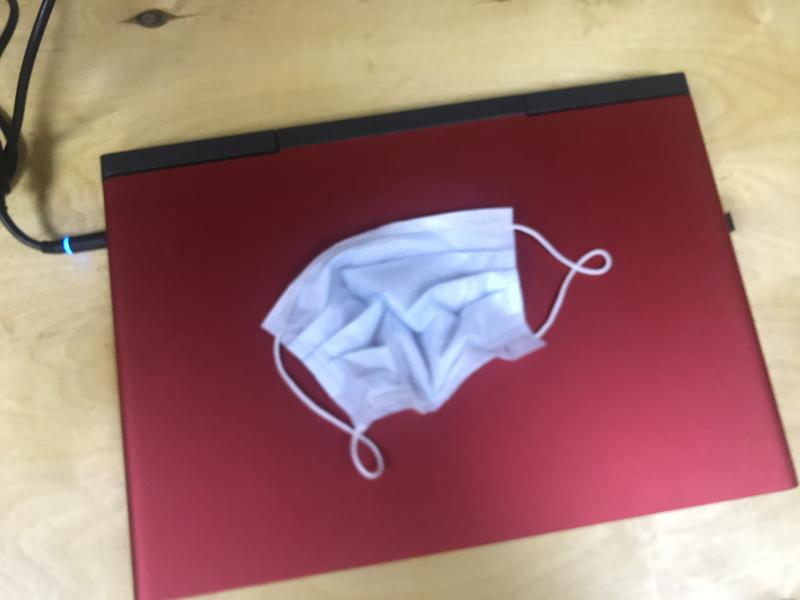medical_mask: (259, 206, 614, 480)
